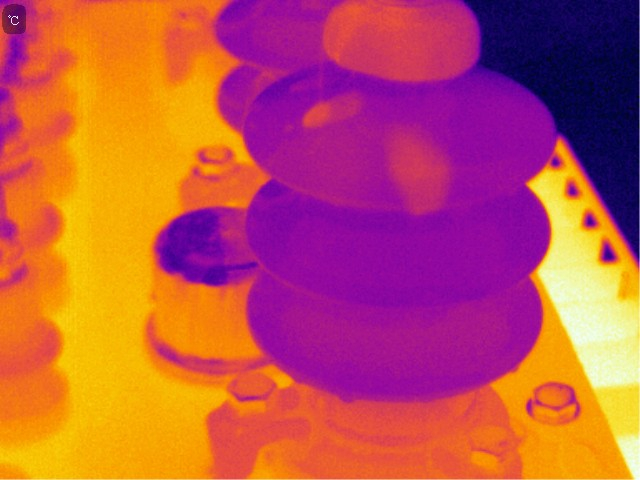Oil: (323, 1, 469, 83), (378, 121, 451, 220), (275, 138, 367, 200), (296, 92, 360, 128), (336, 383, 359, 404), (507, 362, 522, 375)
